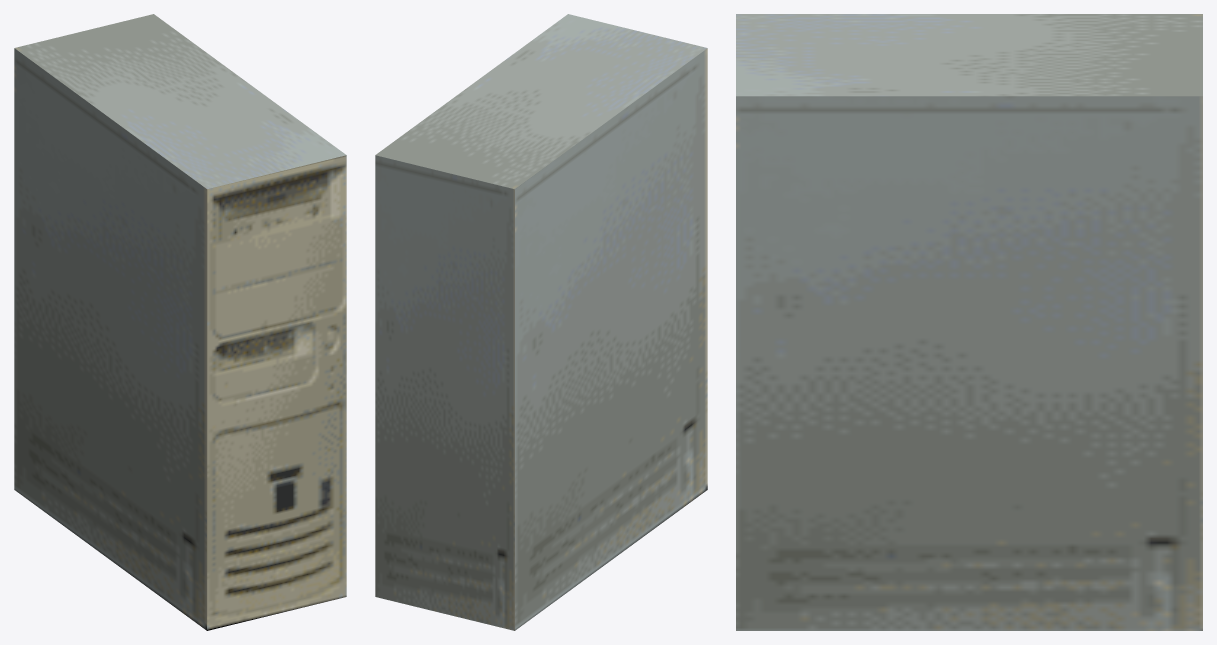
File: VintagePC_Props.glb
3 views of the same model, side by side, from view 1: azimuth 30°, elevation 25°; view 2: azimuth 150°, elevation 25°; view 3: azimuth 270°, elevation 25° (orthographic). The views are drawn at different scales.
Visible parts, largest first — view 1: Cube.001; view 2: Cube.001; view 3: Cube.001.
Boxes of the visible parts, x1=… form: Cube.001: x1=14, y1=14, x2=346, y2=630; Cube.001: x1=375, y1=14, x2=707, y2=630; Cube.001: x1=736, y1=14, x2=1202, y2=630.
Bounding box in the file's own units: 0.6794 × 2.05 × 1.63.
1 material, 1 textured.
